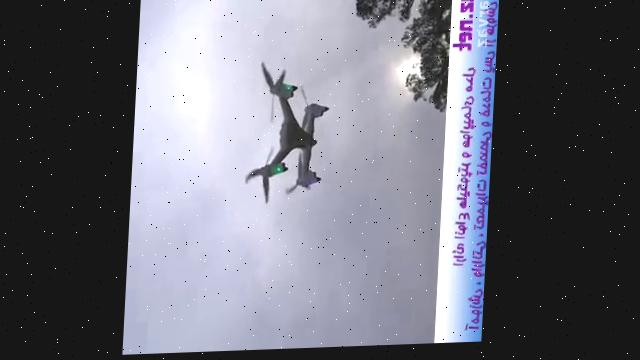drone: (241, 59, 332, 210)
